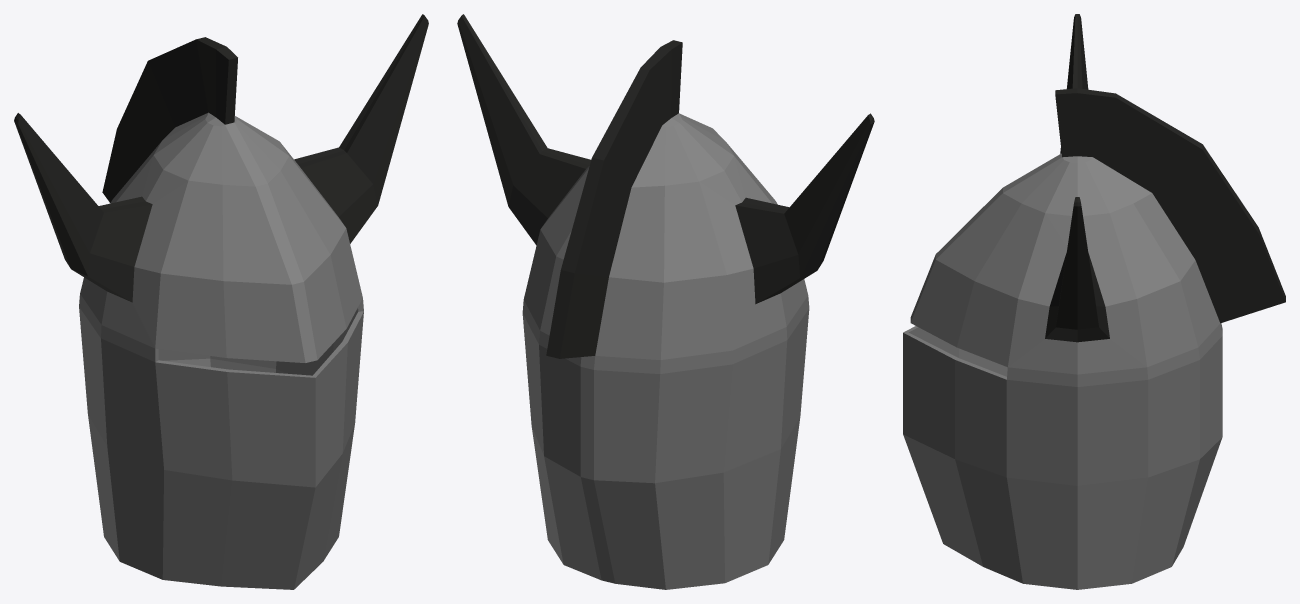
Rendered from Helmet_01.fbx.
3 views of the same model, side by side, from view 1: azimuth 30°, elevation 25°; view 2: azimuth 150°, elevation 25°; view 3: azimuth 270°, elevation 25° (orthographic). The views are drawn at different scales.
Parts seen in each view (by area): view 1: Helmet_01; view 2: Helmet_01; view 3: Helmet_01.
Part boxes in pixels (box(x1,y1,x2,y2)): Helmet_01: box(14, 14, 428, 589); Helmet_01: box(457, 14, 874, 589); Helmet_01: box(903, 14, 1285, 589).
Bounding box in the file's own units: 24.95 × 28.29 × 21.66.
